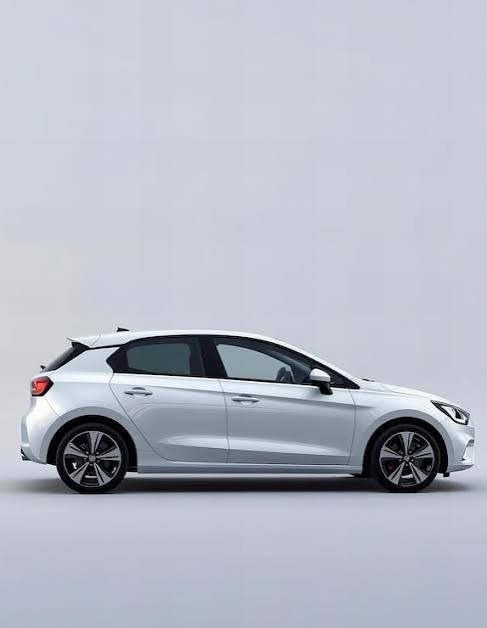car: (27, 326, 451, 492)
